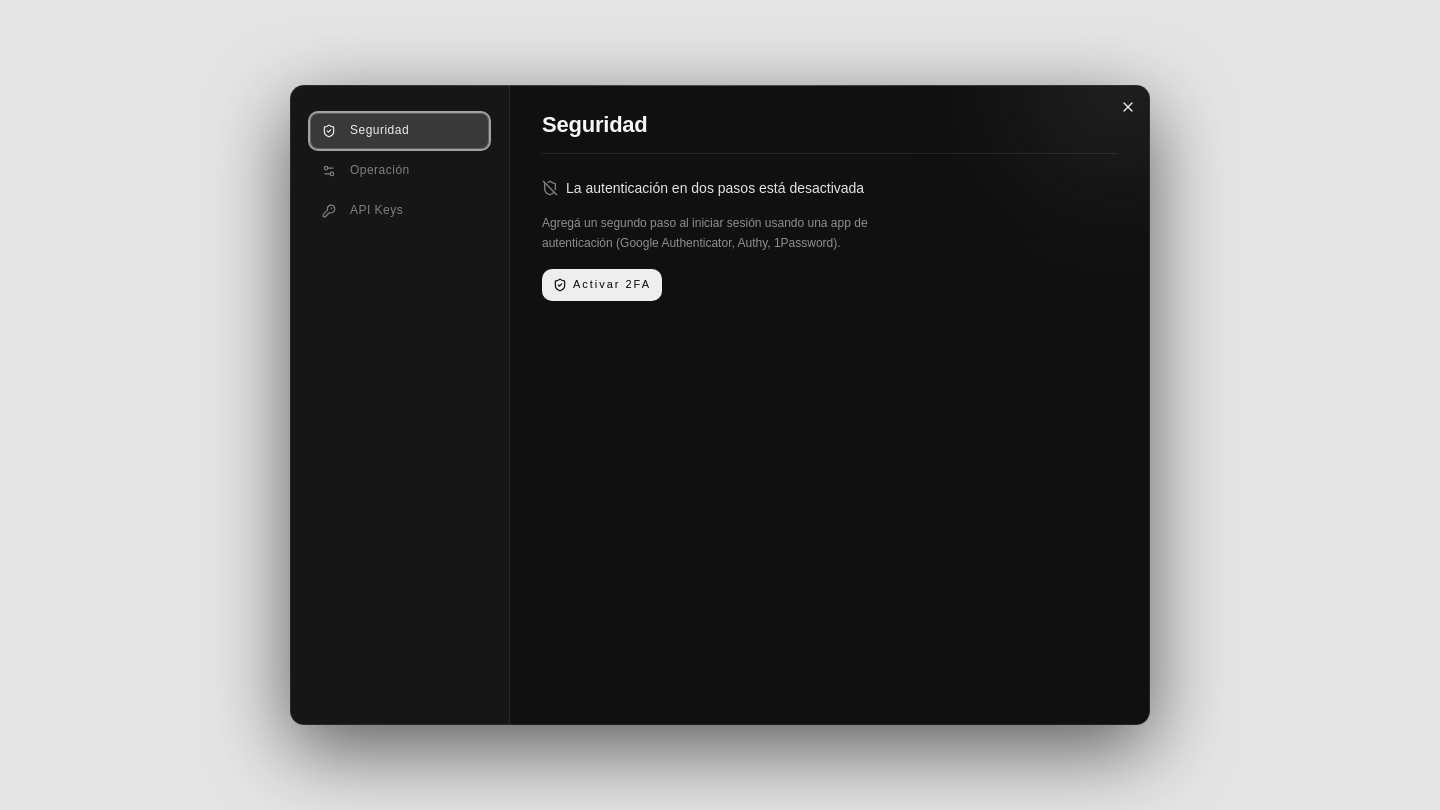
Test: SettingsDialog › confirmation dialog can be cancelled
Expected: the heading "Seguridad" is shown, [542,112,648,137]
What coordinates should you click on to do the following:
click the tab "Operación"
I would click on:
 (400, 171)
Its box is [310,153,489,189].
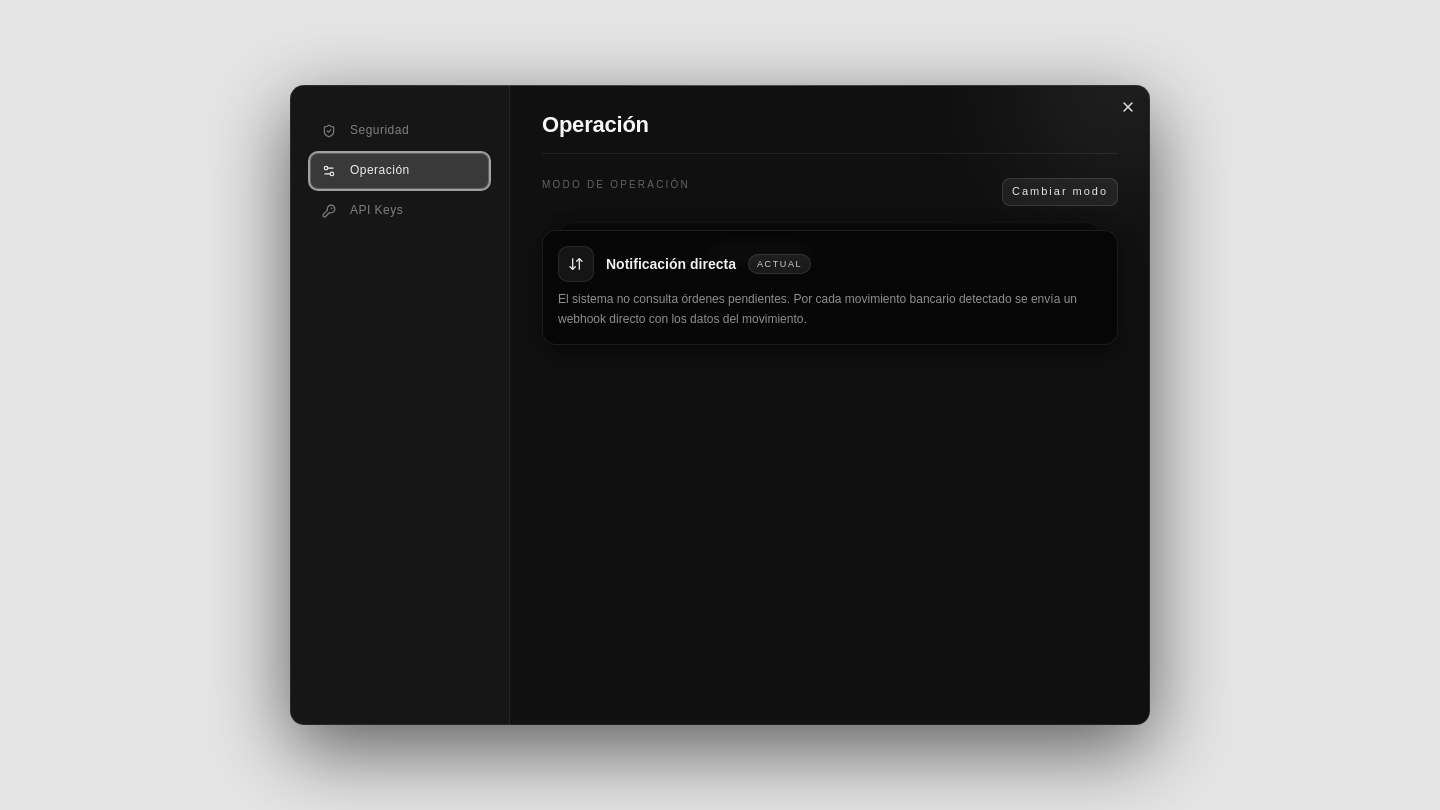
What coordinates should you click on to do the following:
click the button "Cambiar modo"
I would click on:
 (1060, 192)
Its box is [1002,178,1118,206].
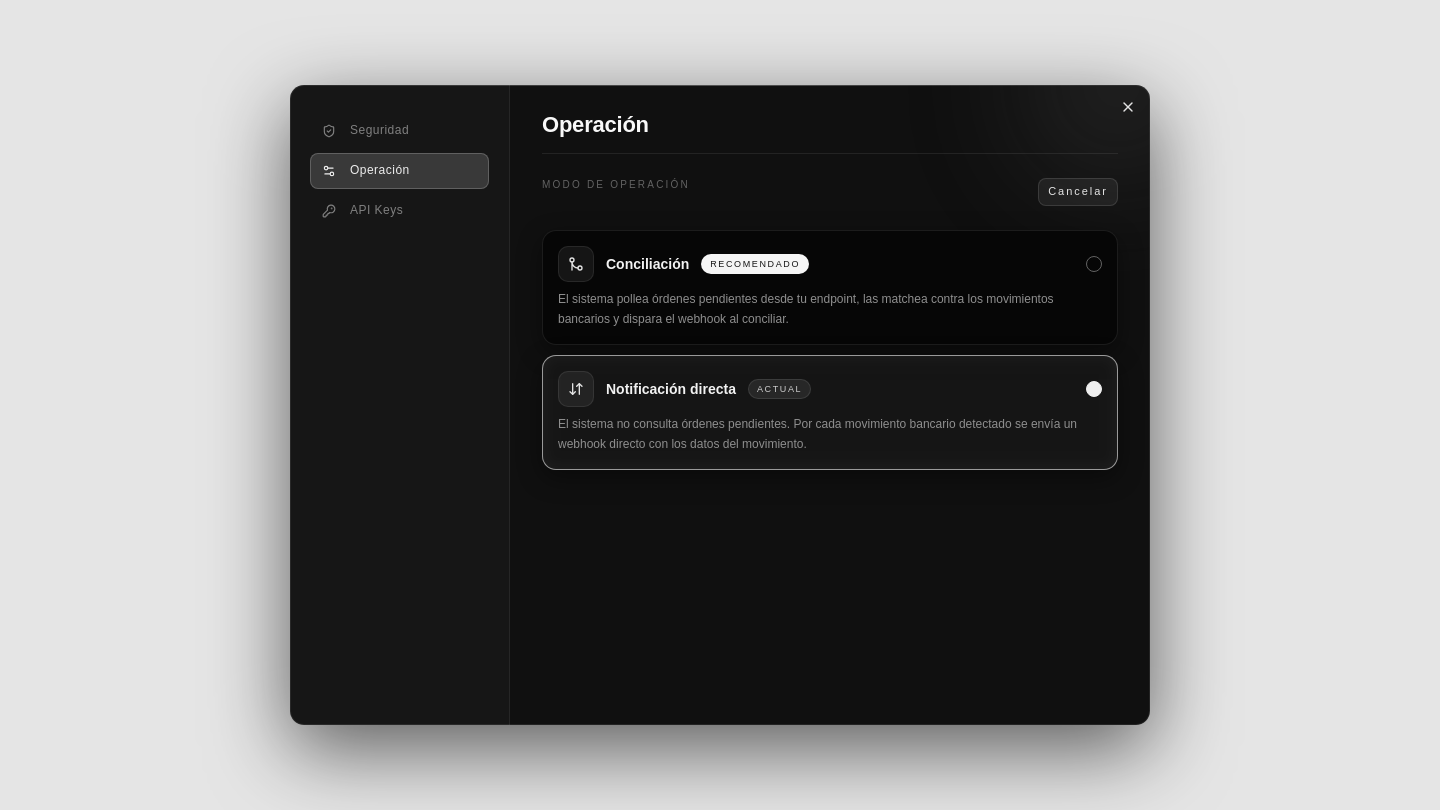
What coordinates should you click on to do the following:
click the button "Conciliación"
I would click on:
 (576, 264)
Its box is [542,230,1118,345].
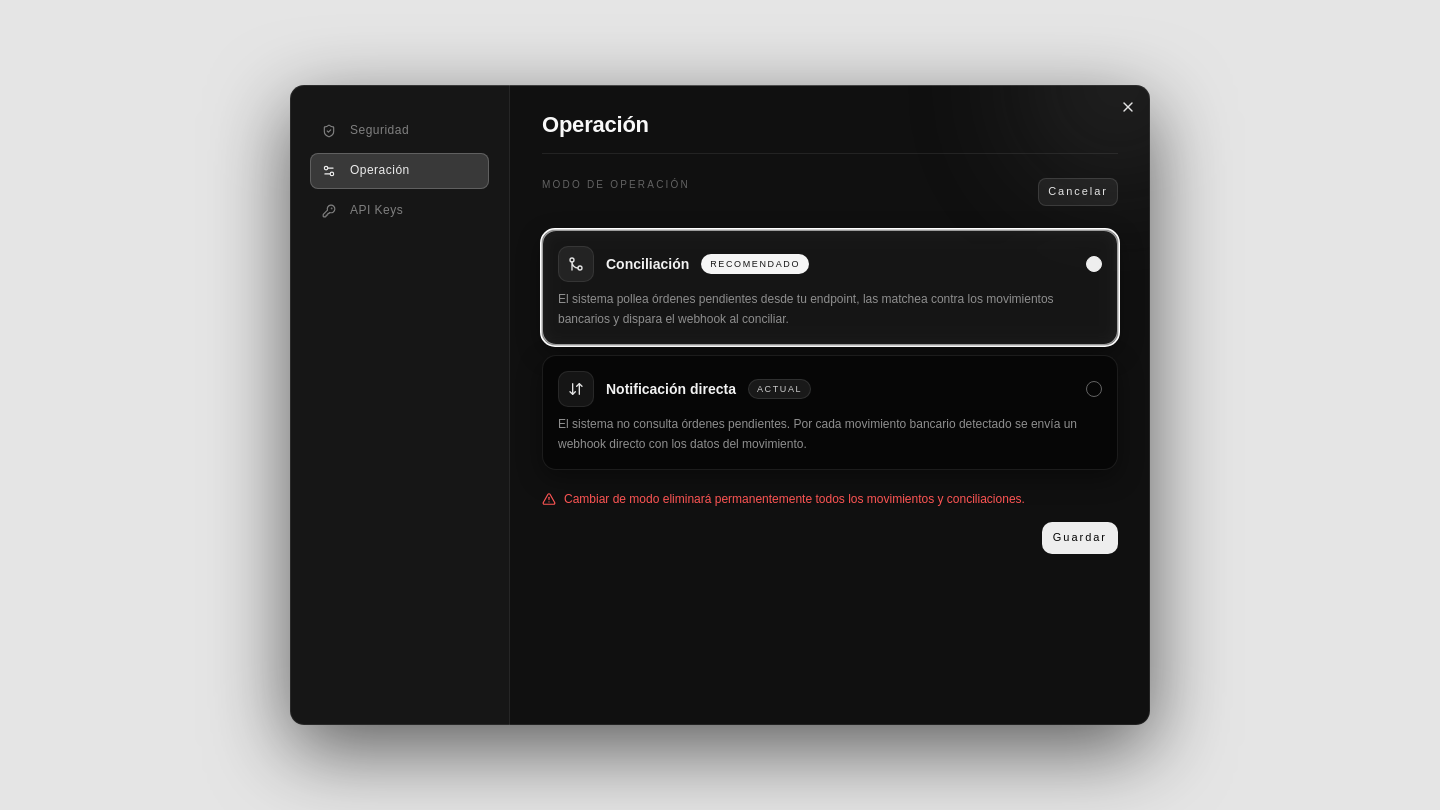
What coordinates should you click on to do the following:
click the button "Guardar"
I would click on:
 (1080, 538)
Its box is [1042,522,1118,554].
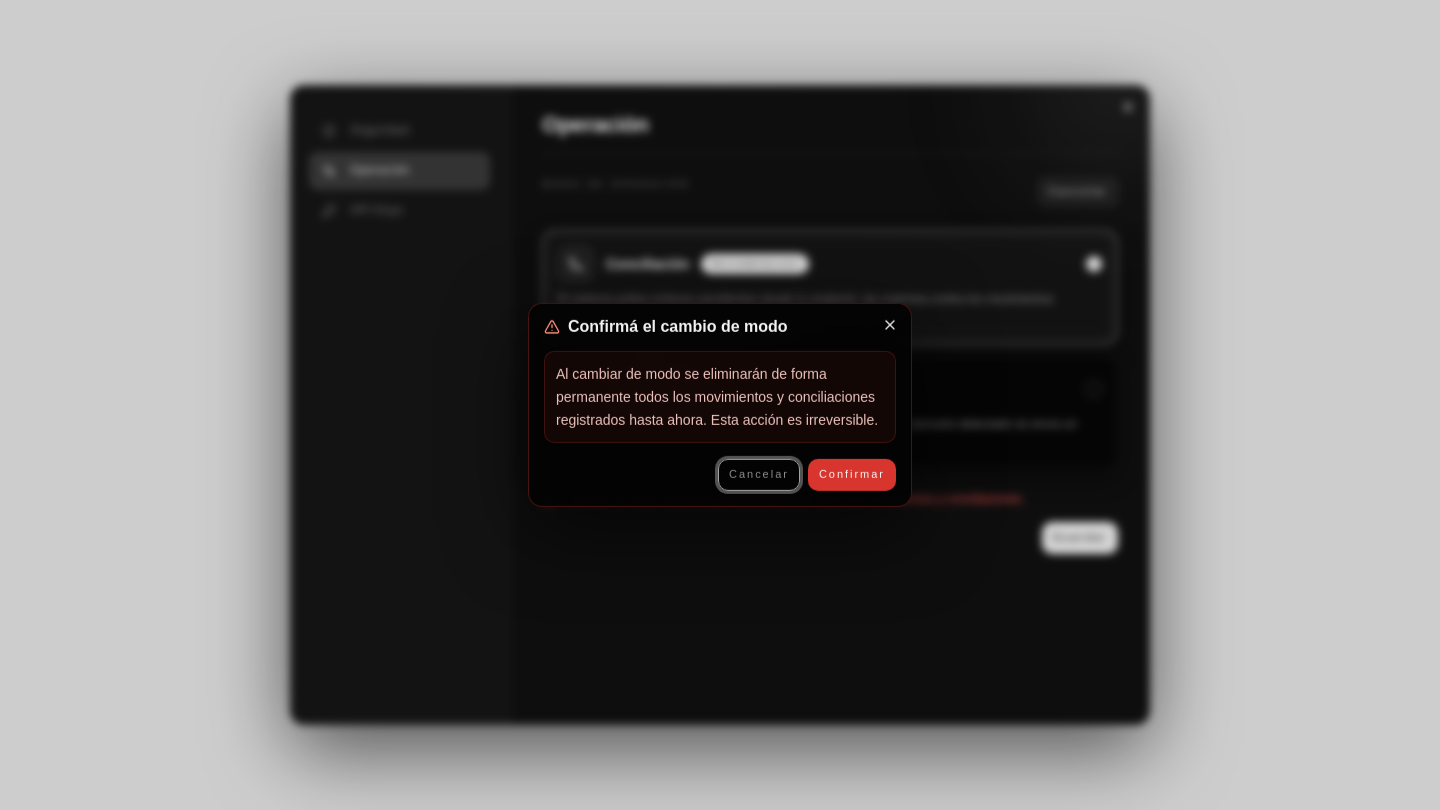
Now the text "Confirmá el cambio de modo" is shown, box [568,319,788,335]
What coordinates should you click on to do the following:
click the button "Cancelar"
I would click on:
 (759, 475)
Its box is [718,459,800,491].
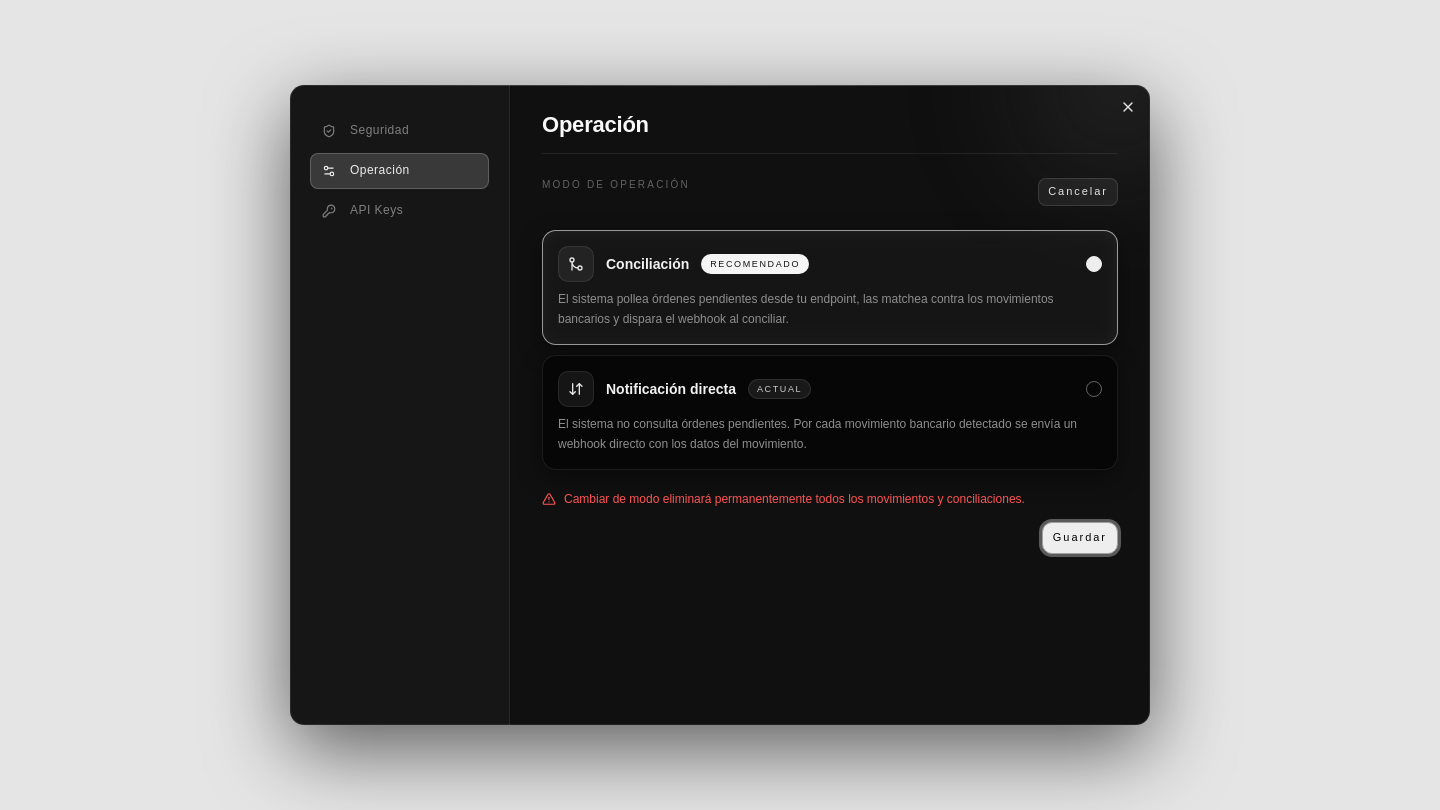
Now the text "Confirmá el cambio de modo" is gone
